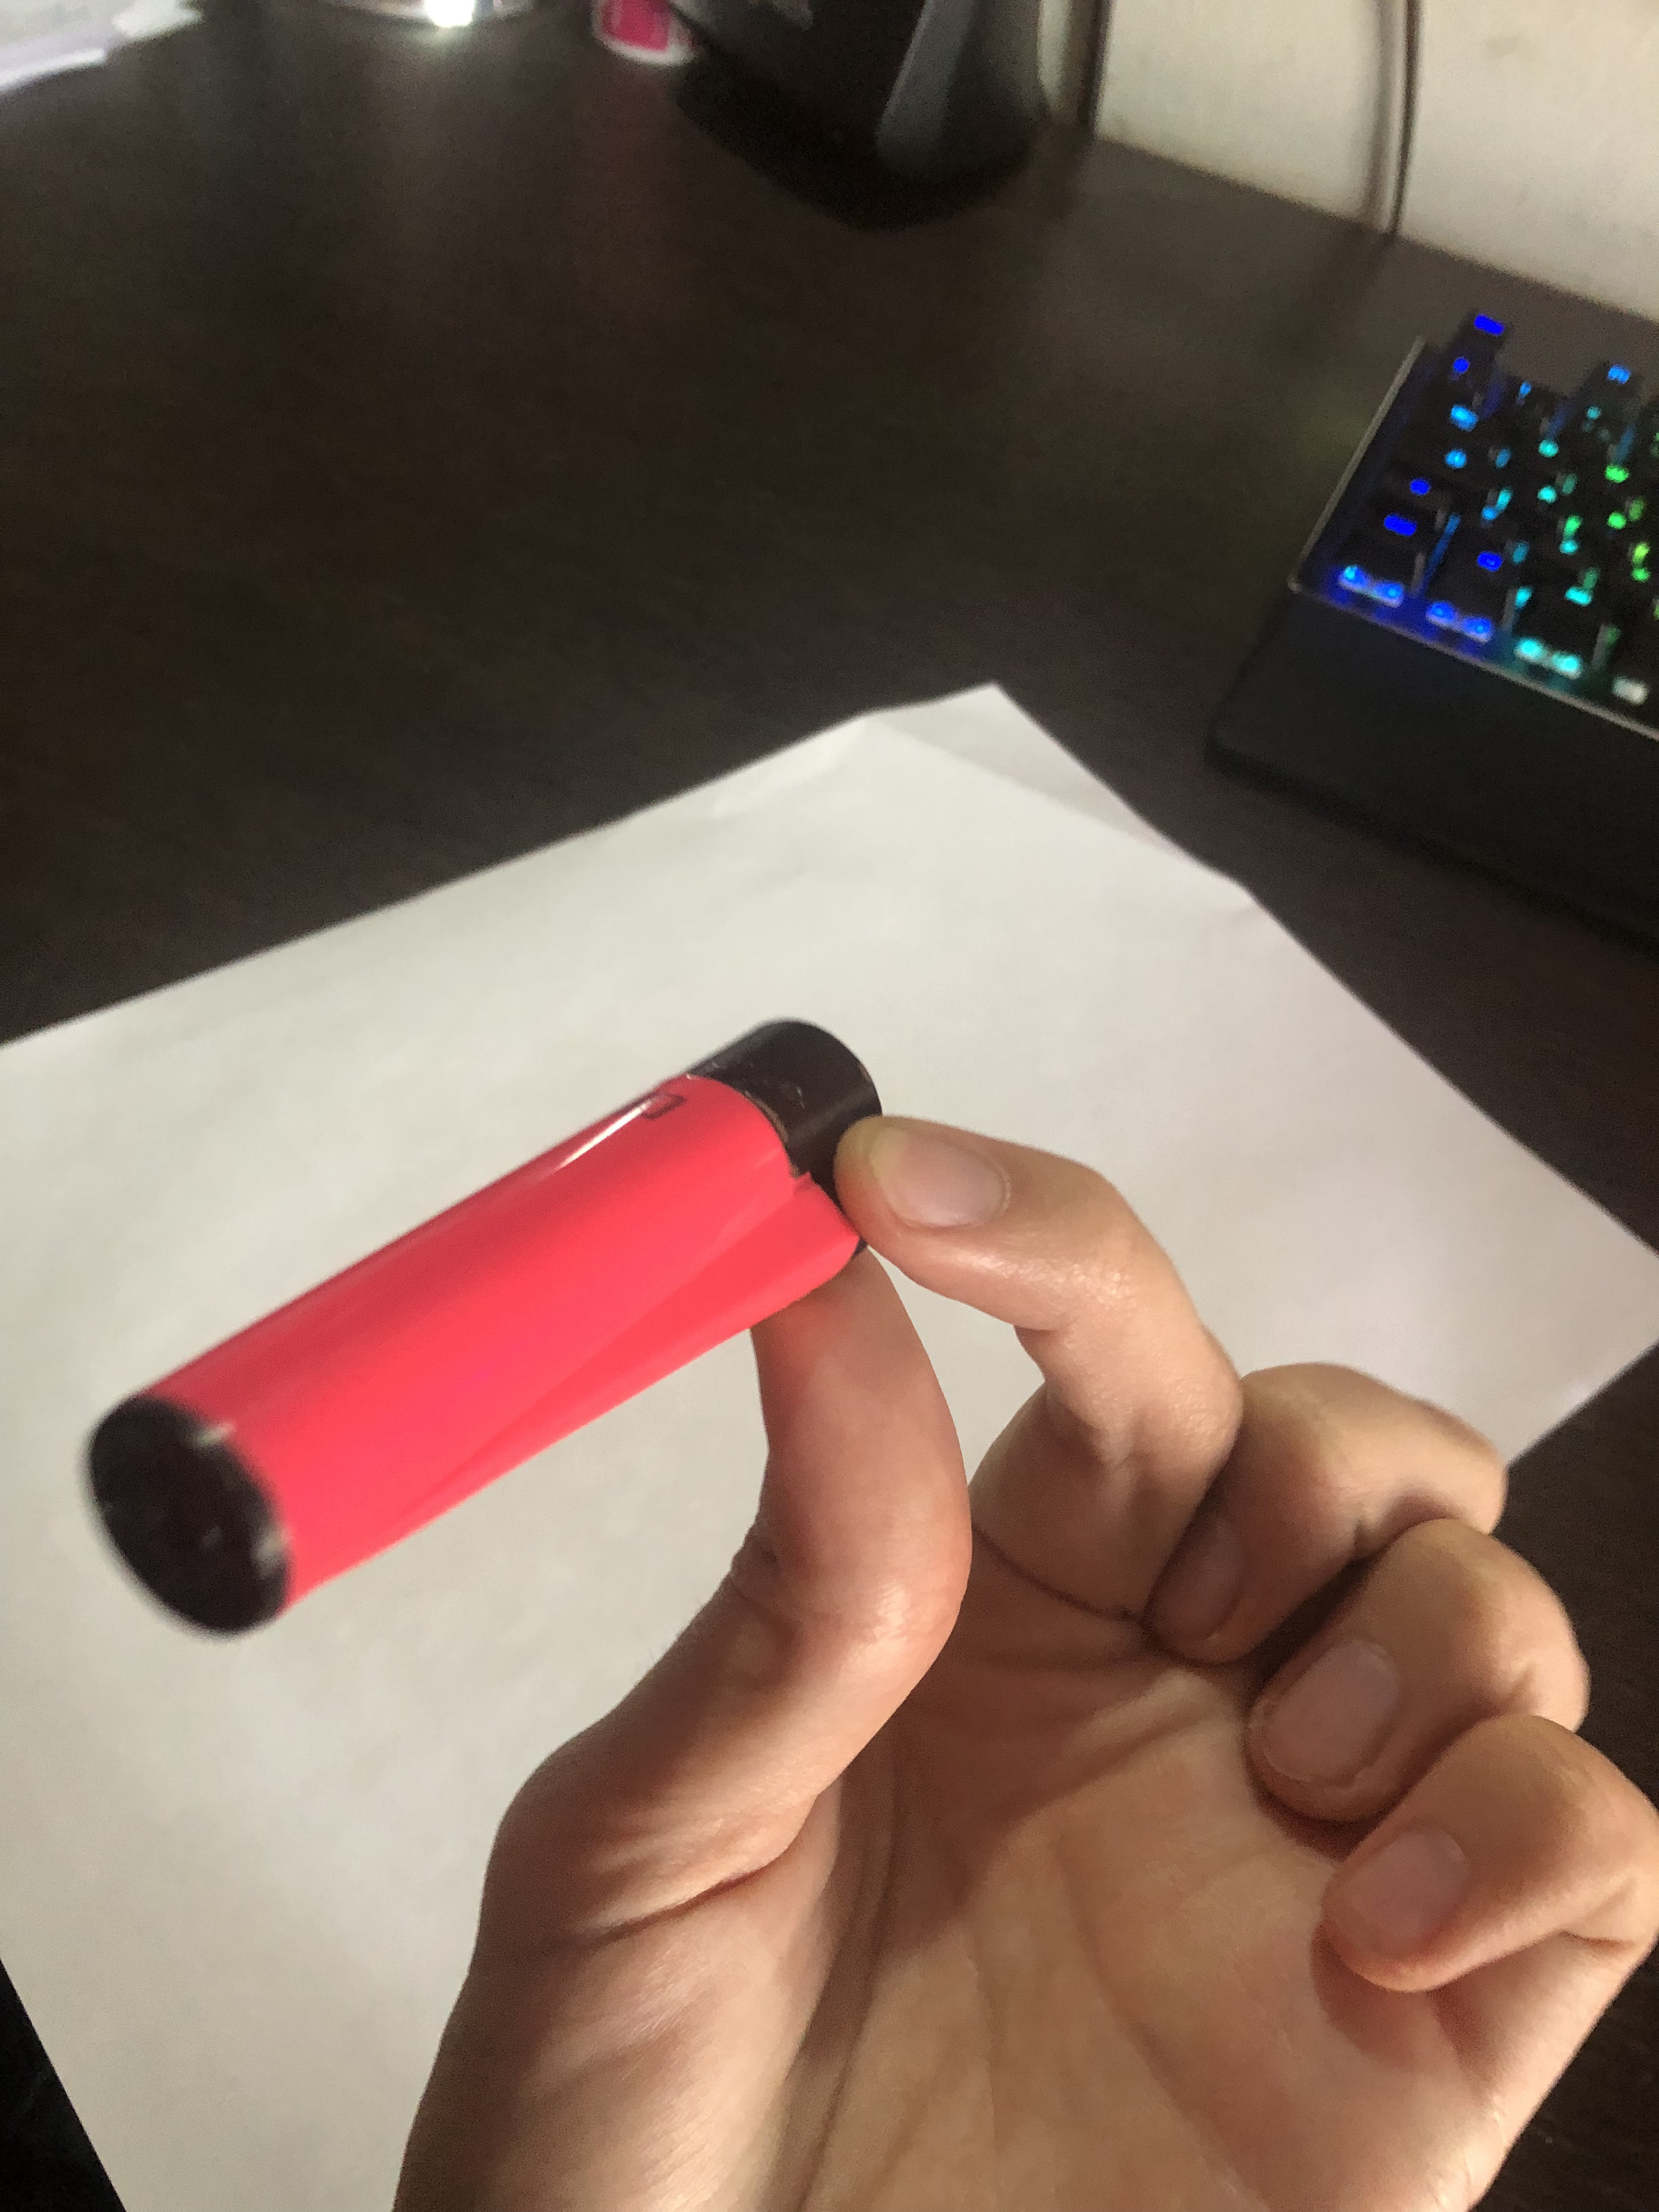Mechero: (71, 1007, 911, 1649)
